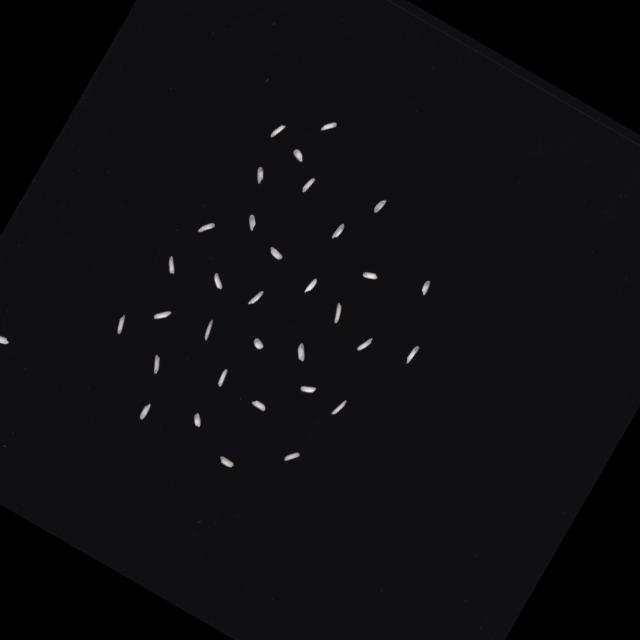Chalky: (328, 302, 347, 324), (355, 333, 373, 354), (200, 318, 216, 341), (162, 255, 180, 275), (292, 342, 310, 362), (146, 354, 164, 374), (329, 397, 346, 418), (403, 344, 419, 366), (152, 306, 171, 324), (268, 121, 285, 141), (208, 272, 226, 290), (250, 165, 267, 184), (112, 314, 128, 334), (246, 288, 262, 308), (197, 218, 214, 236), (319, 118, 336, 136), (282, 448, 299, 466), (242, 213, 258, 231), (371, 196, 386, 215), (302, 276, 316, 296), (298, 381, 316, 396), (137, 401, 151, 420), (214, 368, 228, 387), (361, 268, 378, 283), (300, 176, 314, 194), (330, 222, 344, 240), (266, 246, 284, 260), (290, 147, 306, 162), (250, 336, 265, 352), (217, 454, 234, 468), (189, 412, 204, 427), (250, 398, 266, 412), (418, 279, 431, 296), (0, 332, 9, 348)
